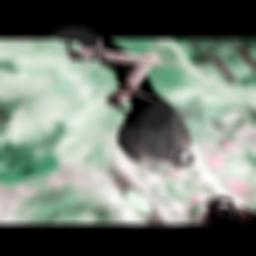Crow: (69, 64, 219, 182)
